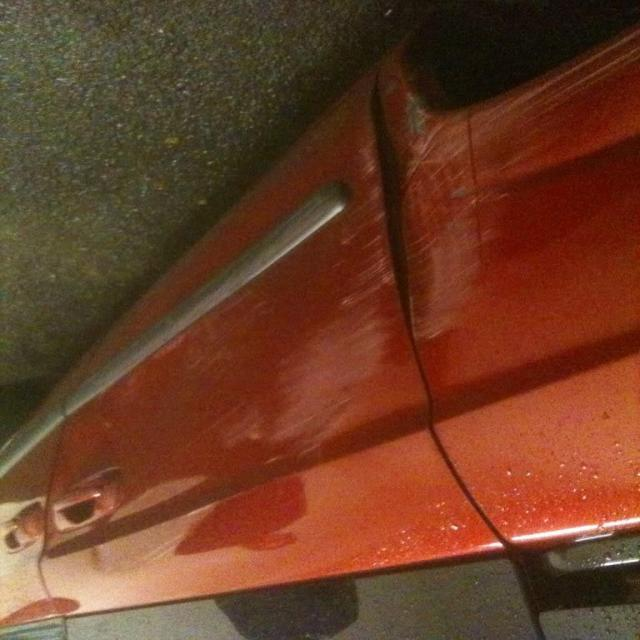scratch: (289, 78, 614, 414)
